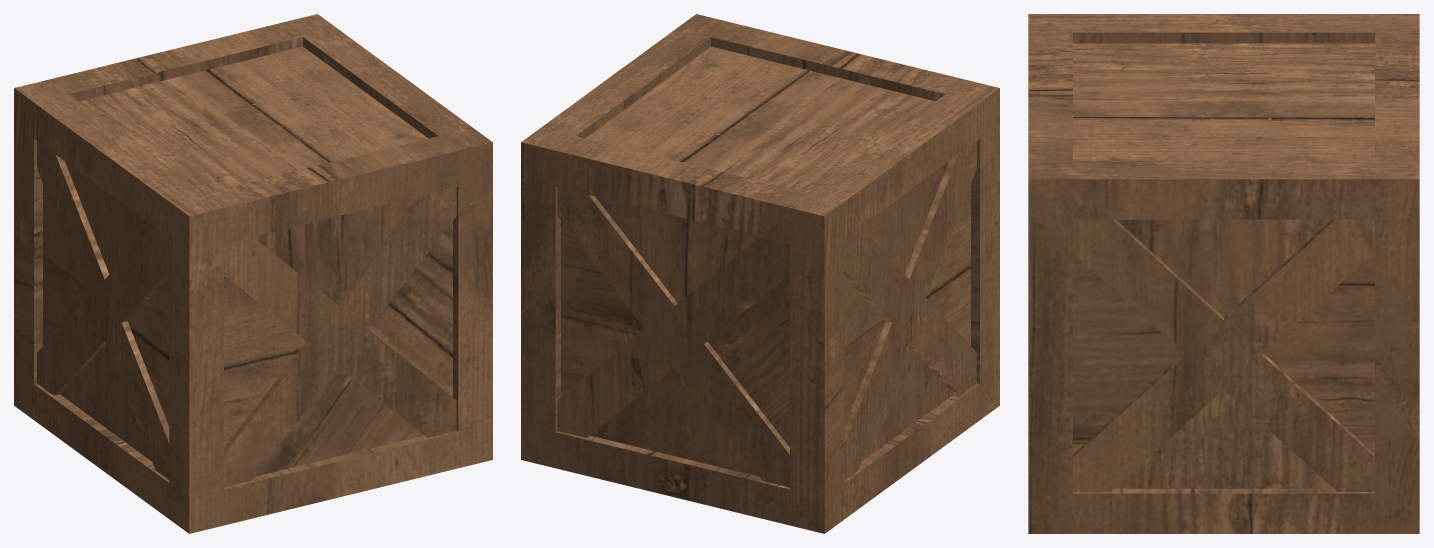
The model's file is 장애물_상자더미.fbx.
3 views of the same model, side by side, from view 1: azimuth 30°, elevation 25°; view 2: azimuth 150°, elevation 25°; view 3: azimuth 270°, elevation 25° (orthographic). The views are drawn at different scales.
Parts seen in each view (by area): view 1: 상자; view 2: 상자; view 3: 상자.
Boxes of the visible parts, x1=… form: 상자: x1=14, y1=14, x2=492, y2=533; 상자: x1=521, y1=14, x2=999, y2=533; 상자: x1=1028, y1=14, x2=1419, y2=533.
Bounding box in the file's own units: 100 × 100 × 100.
